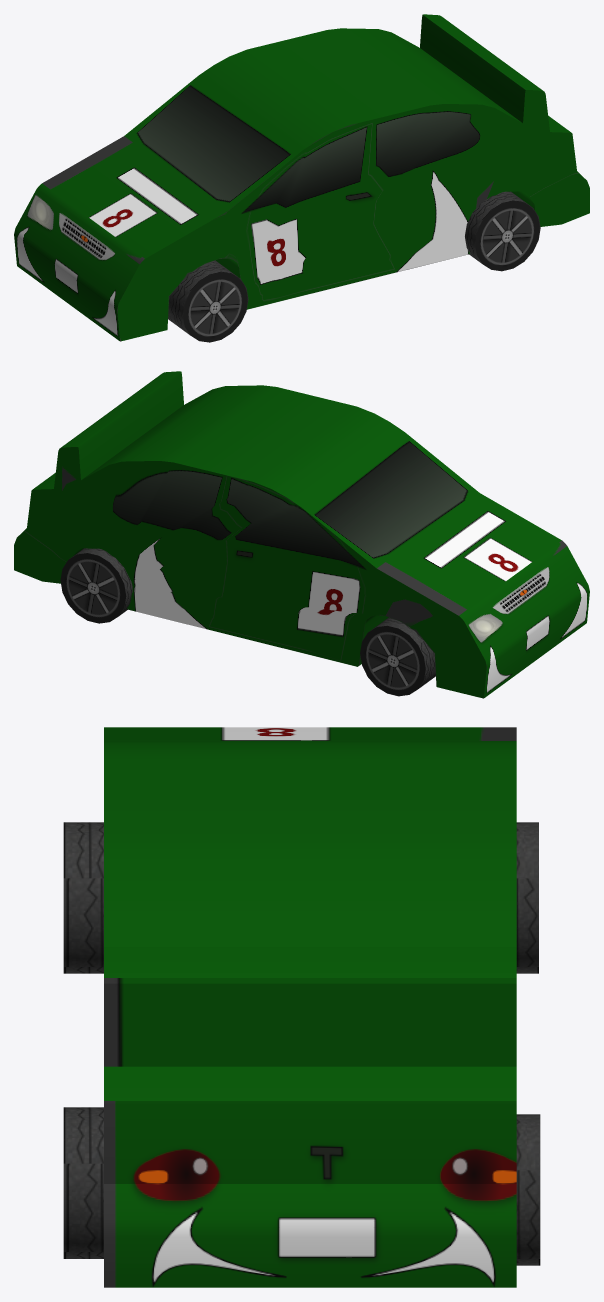
The model's file is carro.fbx.
3 views of the same model, one above another, from view 1: azimuth 30°, elevation 25°; view 2: azimuth 150°, elevation 25°; view 3: azimuth 270°, elevation 25° (orthographic). The views are drawn at different scales.
Parts seen in each view (by area): view 1: Line002, Cylinder001, Cylinder005; view 2: Line002, Cylinder002, Cylinder007; view 3: Line002, Cylinder001, Cylinder005, Cylinder007, Cylinder002.
Boxes of the visible parts, x1,y1,x2,y2 form: Line002: (14, 14, 589, 341); Cylinder001: (168, 260, 248, 342); Cylinder005: (465, 191, 540, 271); Line002: (14, 371, 589, 698); Cylinder002: (360, 617, 435, 696); Cylinder007: (60, 548, 132, 623); Line002: (104, 727, 516, 1287); Cylinder001: (63, 822, 103, 973); Cylinder005: (63, 1107, 103, 1258); Cylinder007: (516, 1114, 540, 1265); Cylinder002: (516, 822, 538, 973).
Bounding box in the file's own units: 185 × 64.96 × 80.88.
